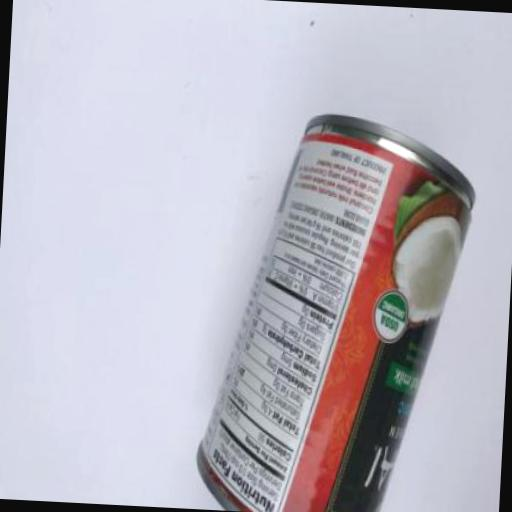metal: (192, 109, 479, 512)
